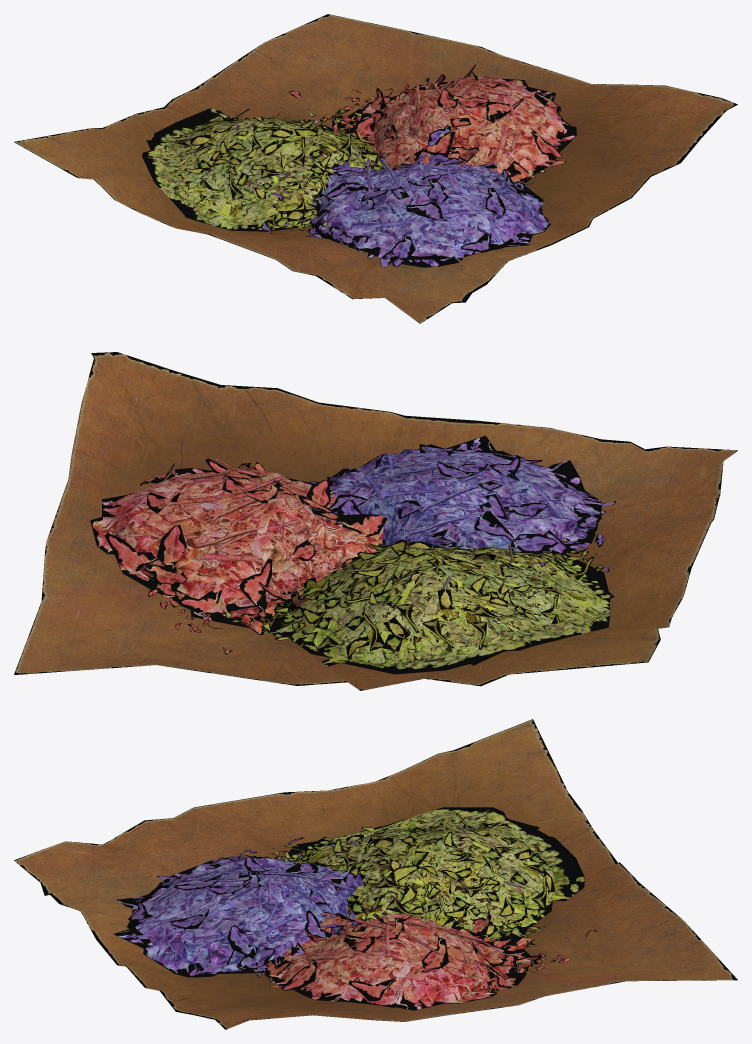
File: sm70_009_herbsgrb01a.fbx
3 renders of one model, top to bottom at view 1: azimuth 30°, elevation 25°; view 2: azimuth 150°, elevation 25°; view 3: azimuth 270°, elevation 25°, orthographic. The views are drawn at different scales.
Visible parts, largest first — view 1: LOD_1_Group_0_Sub_1__sm70_004_HerbsGG01A_Mat__Env_AlphaTest, LOD_1_Group_2_Sub_1__sm70_004_HerbsGG01A_Mat__Env_AlphaTest, LOD_1_Group_5_Sub_1__sm70_006_HerbsGB01A_B_Mat__Env_AlphaTes, LOD_1_Group_1_Sub_1__sm70_004_HerbsGG01A_Mat__Env_AlphaTest, LOD_1_Group_3_Sub_1__sm70_004_HerbsGG01A_mt, LOD_1_Group_4_Sub_1__sm70_006_HerbsGB01A_B_Mat__Env_AlphaTes; view 2: LOD_1_Group_0_Sub_1__sm70_004_HerbsGG01A_Mat__Env_AlphaTest, LOD_1_Group_2_Sub_1__sm70_004_HerbsGG01A_Mat__Env_AlphaTest, LOD_1_Group_1_Sub_1__sm70_004_HerbsGG01A_Mat__Env_AlphaTest, LOD_1_Group_5_Sub_1__sm70_006_HerbsGB01A_B_Mat__Env_AlphaTes, LOD_1_Group_3_Sub_1__sm70_004_HerbsGG01A_mt, LOD_1_Group_4_Sub_1__sm70_006_HerbsGB01A_B_Mat__Env_AlphaTes; view 3: LOD_1_Group_0_Sub_1__sm70_004_HerbsGG01A_Mat__Env_AlphaTest, LOD_1_Group_2_Sub_1__sm70_004_HerbsGG01A_Mat__Env_AlphaTest, LOD_1_Group_5_Sub_1__sm70_006_HerbsGB01A_B_Mat__Env_AlphaTes, LOD_1_Group_1_Sub_1__sm70_004_HerbsGG01A_Mat__Env_AlphaTest, LOD_1_Group_3_Sub_1__sm70_004_HerbsGG01A_mt, LOD_1_Group_4_Sub_1__sm70_006_HerbsGB01A_B_Mat__Env_AlphaTes.
Part boxes in pixels (x1=…): LOD_1_Group_0_Sub_1__sm70_004_HerbsGG01A_Mat__Env_AlphaTest: x1=14, y1=14, x2=737, y2=323; LOD_1_Group_2_Sub_1__sm70_004_HerbsGG01A_Mat__Env_AlphaTest: x1=142, y1=108, x2=429, y2=231; LOD_1_Group_5_Sub_1__sm70_006_HerbsGB01A_B_Mat__Env_AlphaTes: x1=261, y1=124, x2=550, y2=267; LOD_1_Group_1_Sub_1__sm70_004_HerbsGG01A_Mat__Env_AlphaTest: x1=289, y1=64, x2=576, y2=183; LOD_1_Group_3_Sub_1__sm70_004_HerbsGG01A_mt: x1=416, y1=76, x2=521, y2=149; LOD_1_Group_4_Sub_1__sm70_006_HerbsGB01A_B_Mat__Env_AlphaTes: x1=366, y1=153, x2=455, y2=192; LOD_1_Group_0_Sub_1__sm70_004_HerbsGG01A_Mat__Env_AlphaTest: x1=14, y1=352, x2=737, y2=690; LOD_1_Group_2_Sub_1__sm70_004_HerbsGG01A_Mat__Env_AlphaTest: x1=224, y1=536, x2=614, y2=674; LOD_1_Group_1_Sub_1__sm70_004_HerbsGG01A_Mat__Env_AlphaTest: x1=90, y1=458, x2=388, y2=654; LOD_1_Group_5_Sub_1__sm70_006_HerbsGB01A_B_Mat__Env_AlphaTes: x1=298, y1=435, x2=615, y2=571; LOD_1_Group_3_Sub_1__sm70_004_HerbsGG01A_mt: x1=164, y1=459, x2=283, y2=548; LOD_1_Group_4_Sub_1__sm70_006_HerbsGB01A_B_Mat__Env_AlphaTes: x1=379, y1=456, x2=492, y2=535; LOD_1_Group_0_Sub_1__sm70_004_HerbsGG01A_Mat__Env_AlphaTest: x1=14, y1=719, x2=737, y2=1029; LOD_1_Group_2_Sub_1__sm70_004_HerbsGG01A_Mat__Env_AlphaTest: x1=271, y1=807, x2=584, y2=954; LOD_1_Group_5_Sub_1__sm70_006_HerbsGB01A_B_Mat__Env_AlphaTes: x1=113, y1=837, x2=366, y2=977; LOD_1_Group_1_Sub_1__sm70_004_HerbsGG01A_Mat__Env_AlphaTest: x1=264, y1=911, x2=597, y2=1010; LOD_1_Group_3_Sub_1__sm70_004_HerbsGG01A_mt: x1=308, y1=919, x2=483, y2=960; LOD_1_Group_4_Sub_1__sm70_006_HerbsGB01A_B_Mat__Env_AlphaTes: x1=227, y1=871, x2=354, y2=905.
Size of the model in its own units: 0.2897 by 0.0336 by 0.2866.
